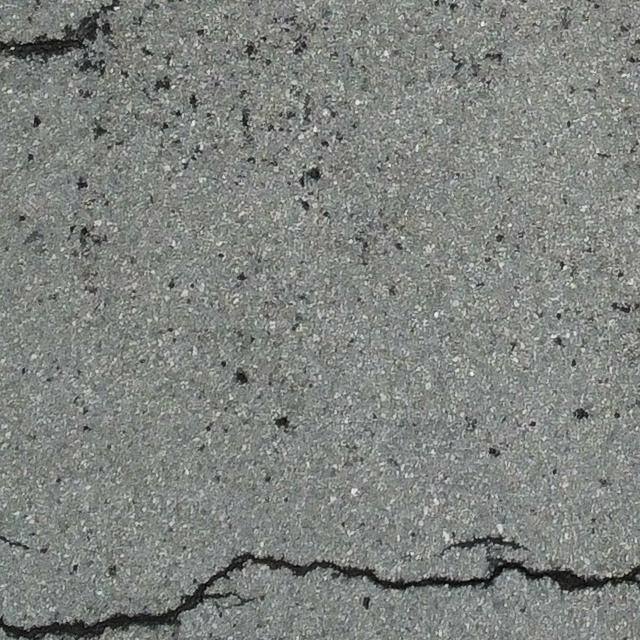TransverseCrack: (1, 536, 639, 640), (1, 1, 121, 63)
